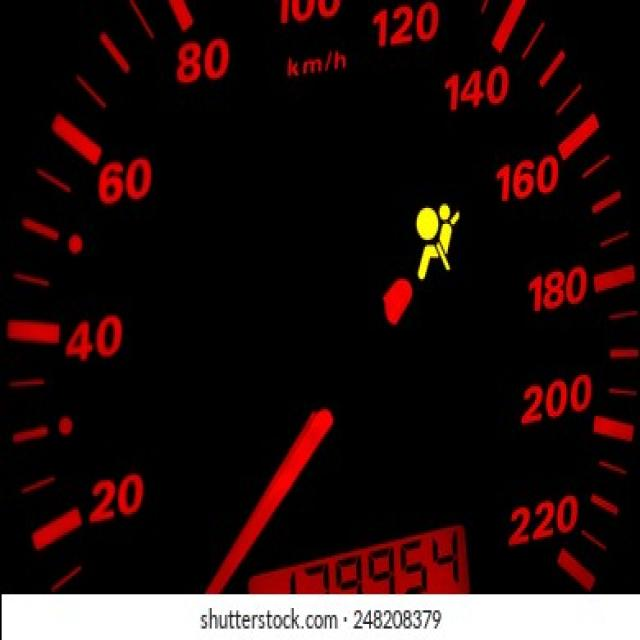SRS-Airbag: (413, 194, 462, 281)
